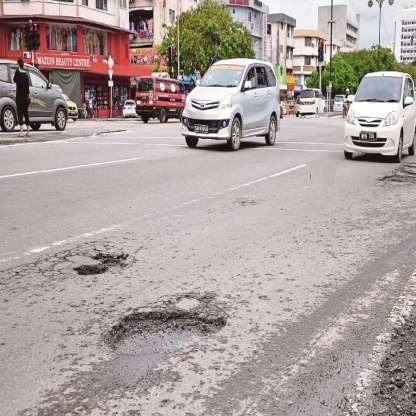pothole: (103, 291, 239, 369), (62, 234, 140, 286), (380, 157, 414, 190)
